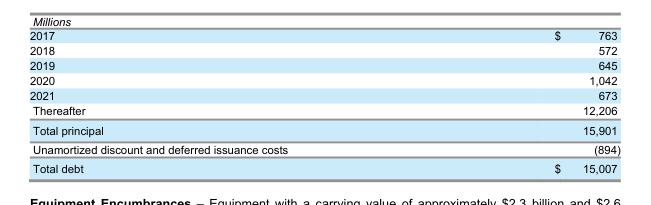table: (28, 29, 619, 174)
table column: (28, 29, 420, 174), (420, 29, 619, 174)
table row: (28, 120, 619, 139), (28, 139, 619, 158), (28, 102, 619, 120), (28, 158, 619, 174), (28, 42, 619, 57), (28, 57, 619, 72), (28, 72, 619, 87), (28, 87, 619, 102), (28, 29, 619, 42)
